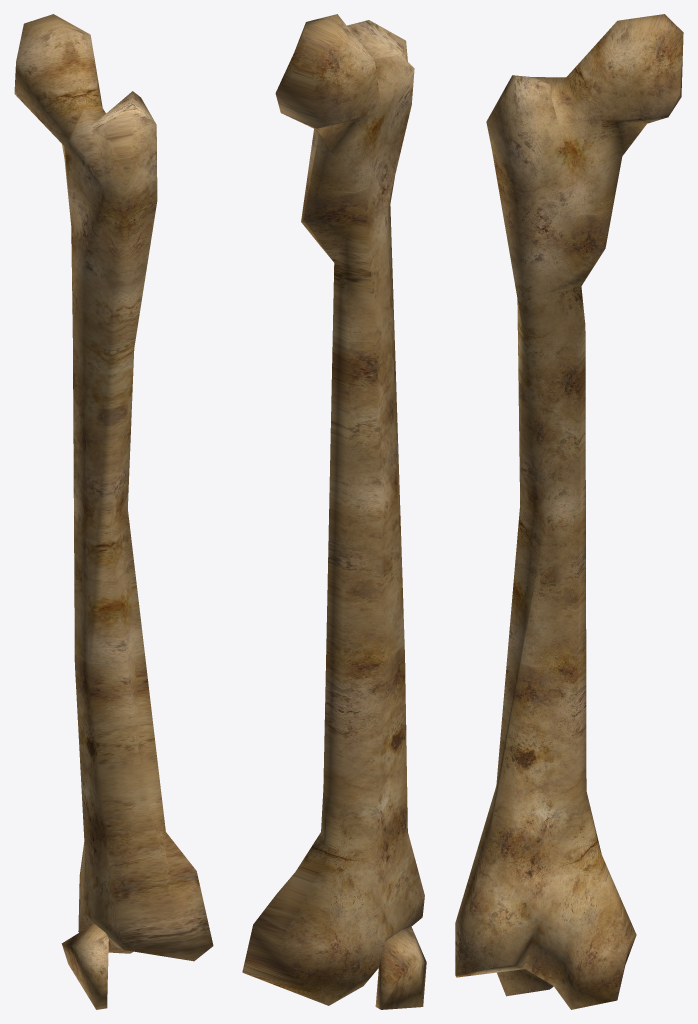
Rendered from propsLegBone.FBX.
3 renders of one model, left to right at view 1: azimuth 30°, elevation 25°; view 2: azimuth 150°, elevation 25°; view 3: azimuth 270°, elevation 25°, orthographic. The views are drawn at different scales.
Parts seen in each view (by area): view 1: legBone; view 2: legBone; view 3: legBone.
Boxes of the visible parts, x1,y1,x2,y2 form: legBone: (14, 14, 213, 1009); legBone: (242, 14, 426, 1009); legBone: (455, 14, 683, 1009).
Size of the model in its own units: 0.0649 by 0.43 by 0.0905.
